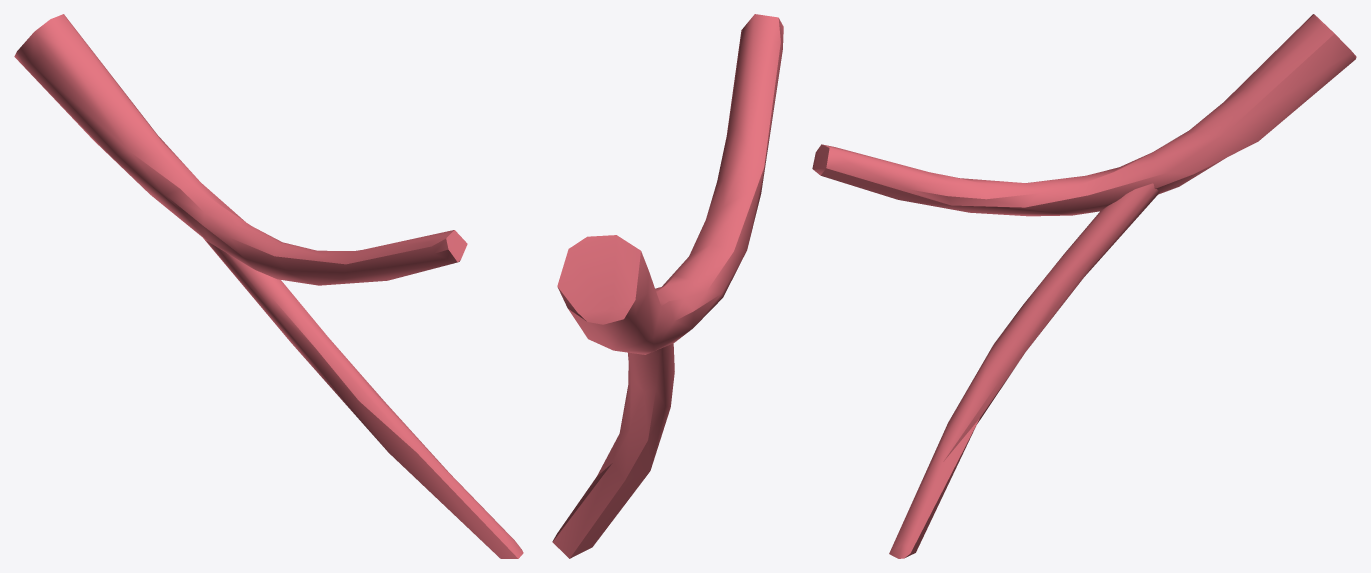
Rendered from fma68694_cx183.glb.
3 renders of one model, left to right at view 1: azimuth 30°, elevation 25°; view 2: azimuth 150°, elevation 25°; view 3: azimuth 270°, elevation 25°, orthographic. The views are drawn at different scales.
Visible parts, largest first — view 1: FMA68694_CX183; view 2: FMA68694_CX183; view 3: FMA68694_CX183.
Boxes of the visible parts, x1,y1,x2,y2 form: FMA68694_CX183: [14, 14, 523, 558]; FMA68694_CX183: [552, 14, 783, 558]; FMA68694_CX183: [812, 14, 1356, 558].
Size of the model in its own units: 0.0243 by 0.0362 by 0.042.
